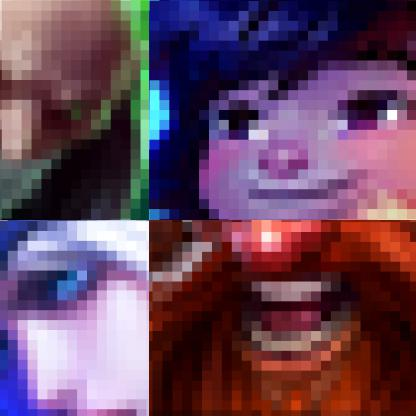Ashe: (0, 220, 148, 415)
Gragas: (149, 220, 415, 415)
Nunu and Willump: (149, 0, 415, 219)
Singed: (0, 0, 148, 219)
